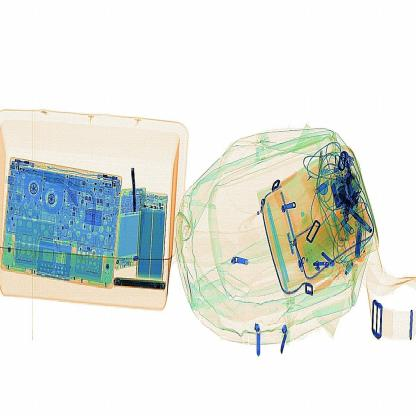knife: (122, 158, 146, 219)
